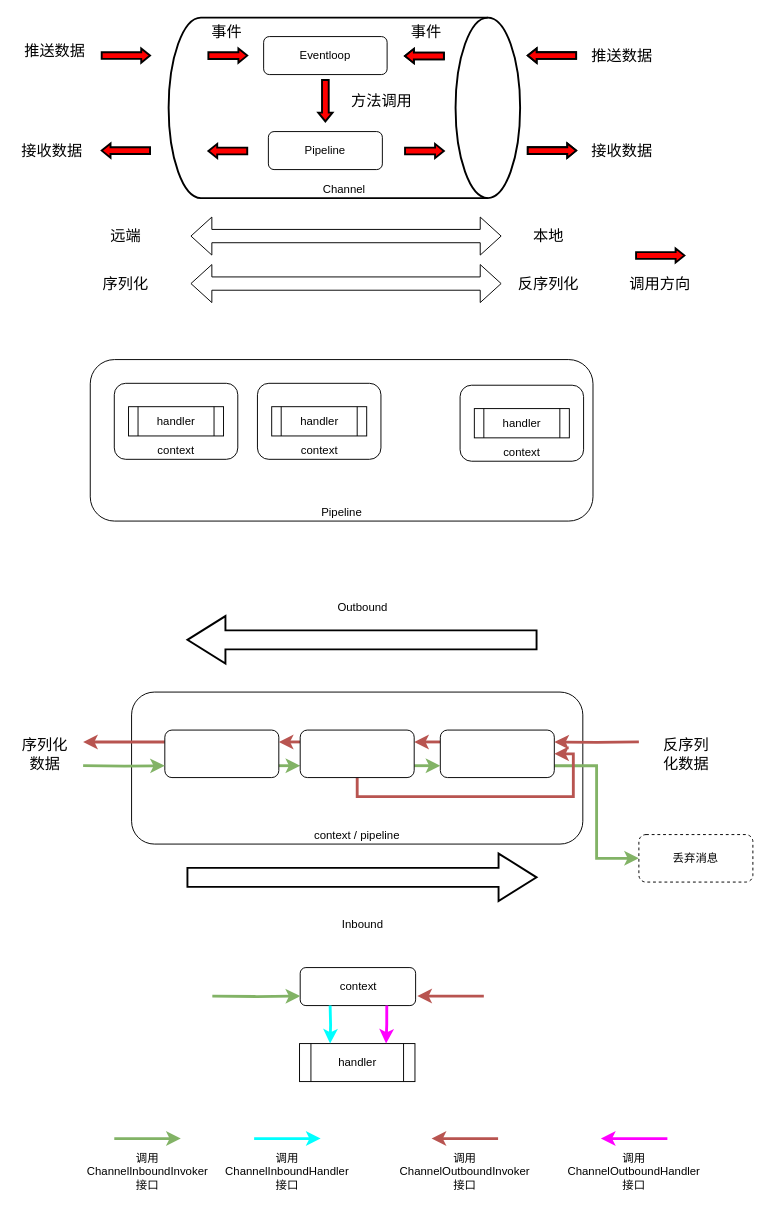
Image size: 770x1208. Some labels were removed from this diagram. The centre of each missing label's shape, as x and y in pixels:
"child context ..." goes at pixel 356 753.
"head child context" goes at pixel 221 753.
"tail child context" goes at pixel 496 753.
